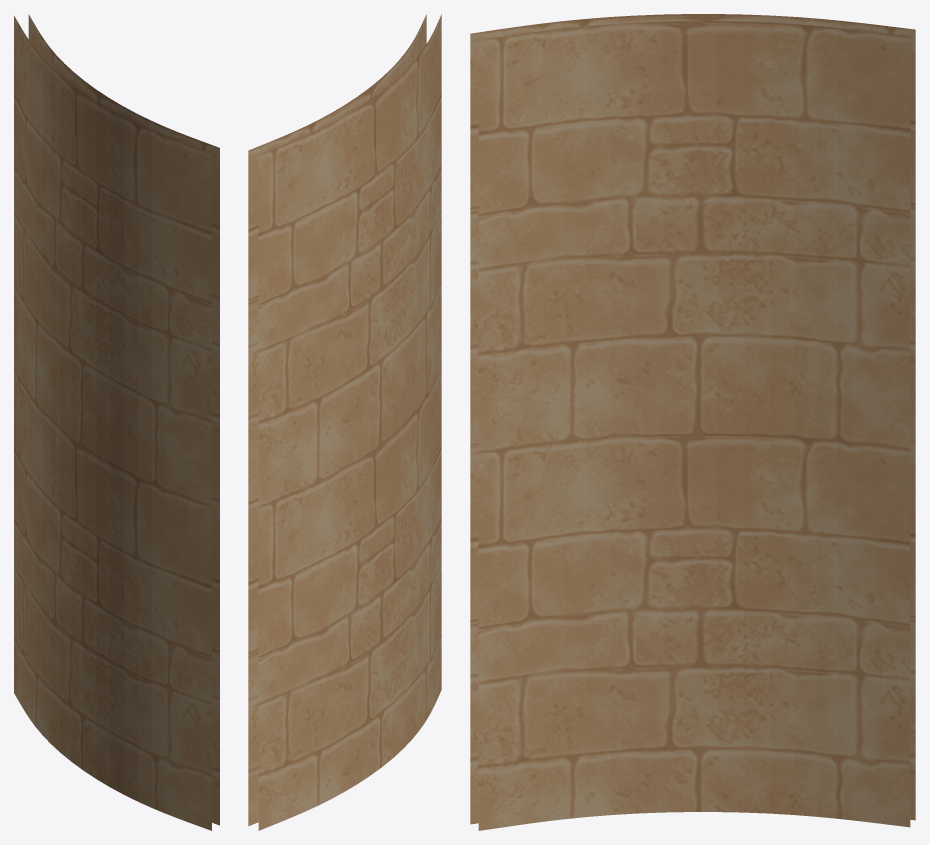
Rendered from SM_Dome_Wall_02.fbx.
The picture shows the model from 3 angles, left to right: view 1: azimuth 30°, elevation 25°; view 2: azimuth 150°, elevation 25°; view 3: azimuth 270°, elevation 25°; orthographic projection. The views are drawn at different scales.
Parts seen in each view (by area): view 1: SM_Dome_Wall_02_LOD0; view 2: SM_Dome_Wall_02_LOD0; view 3: SM_Dome_Wall_02_LOD0.
Part boxes in pixels (x1,y1,x2,y2): SM_Dome_Wall_02_LOD0: (14, 14, 219, 830); SM_Dome_Wall_02_LOD0: (248, 14, 441, 830); SM_Dome_Wall_02_LOD0: (470, 14, 915, 830).
Bounding box in the file's own units: 35.49 × 255 × 500.
